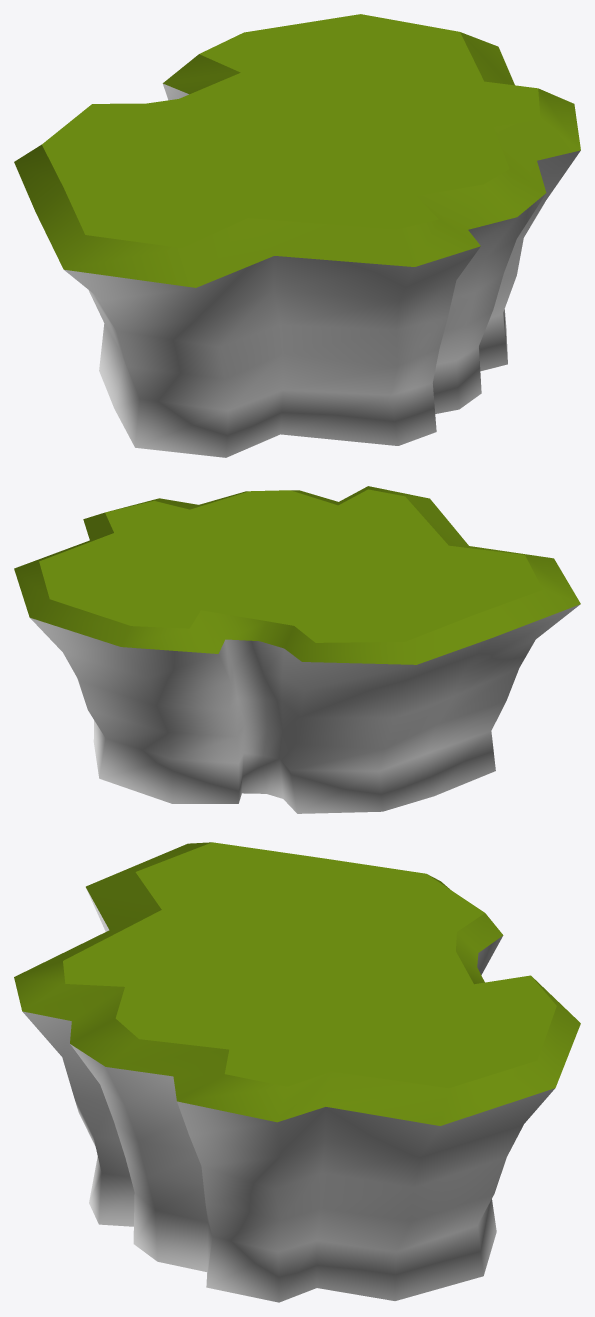
Rendered from ModelTest1.fbx.
3 renders of one model, top to bottom at view 1: azimuth 30°, elevation 25°; view 2: azimuth 150°, elevation 25°; view 3: azimuth 270°, elevation 25°, orthographic. The views are drawn at different scales.
Visible parts, largest first — view 1: Plane.004; view 2: Plane.004; view 3: Plane.004.
Part boxes in pixels (x1,y1,x2,y2): Plane.004: (14, 14, 580, 457); Plane.004: (14, 486, 580, 813); Plane.004: (14, 842, 580, 1302).
Size of the model in its own units: 1960 by 779 by 1683.
